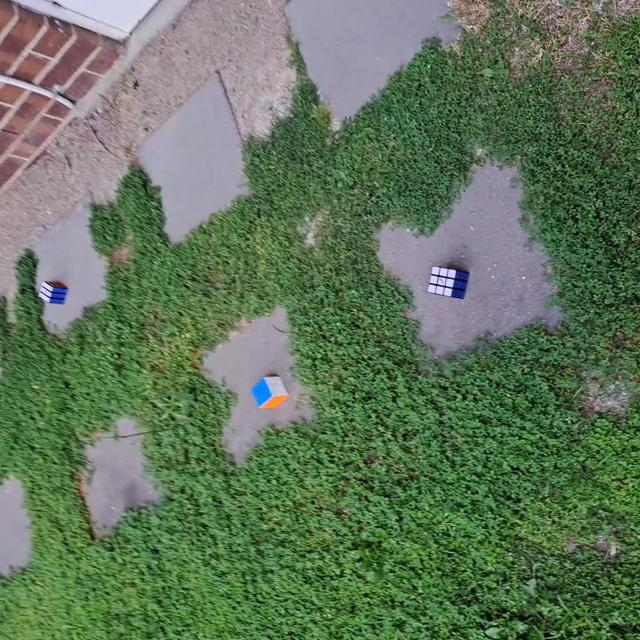rubix_cube: (423, 264, 472, 302), (248, 375, 292, 410), (36, 279, 70, 307)
